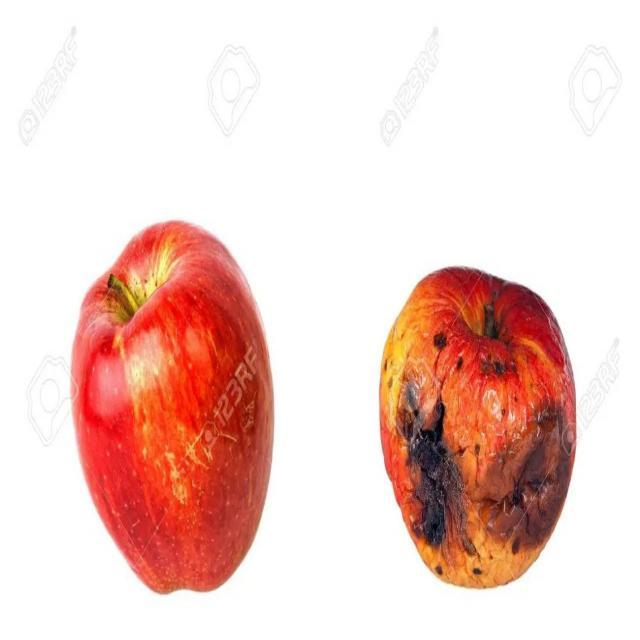Fresh Apple: (82, 226, 273, 582)
Rotten: (365, 273, 595, 570)
